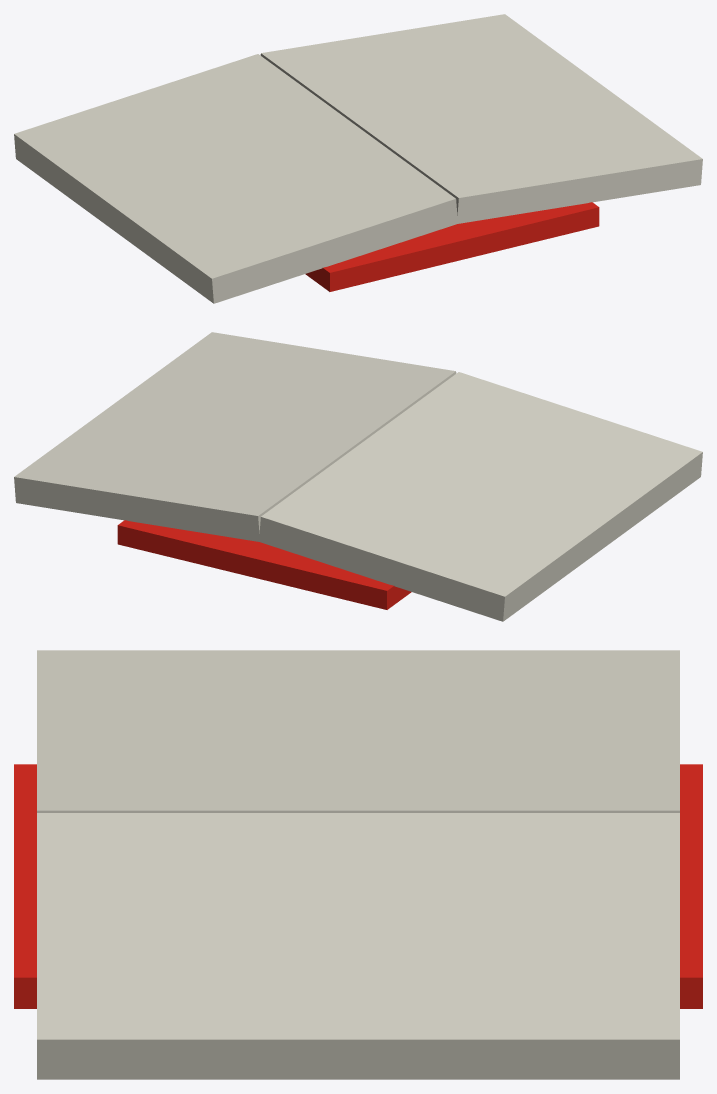
Rendered from open_book.fbx.
3 renders of one model, top to bottom at view 1: azimuth 30°, elevation 25°; view 2: azimuth 150°, elevation 25°; view 3: azimuth 270°, elevation 25°, orthographic. The views are drawn at different scales.
Visible parts, largest first — view 1: open_book; view 2: open_book; view 3: open_book.
Boxes of the visible parts, box(x1,y1,x2,y2) form: open_book: box(14, 14, 702, 303); open_book: box(14, 332, 702, 621); open_book: box(14, 650, 702, 1079).
Size of the model in its own units: 0.401 by 0.0435 by 0.3.
